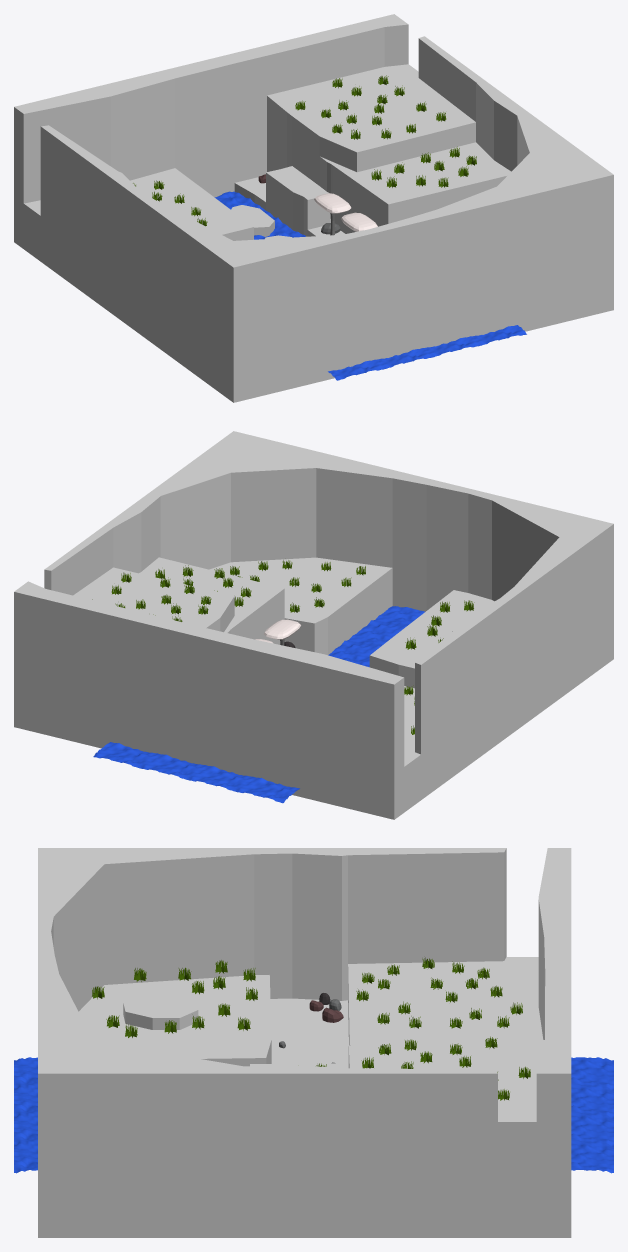
The model's file is stage_1_2_filled.glb.
3 renders of one model, top to bottom at view 1: azimuth 30°, elevation 25°; view 2: azimuth 150°, elevation 25°; view 3: azimuth 270°, elevation 25°, orthographic. The views are drawn at different scales.
Visible parts, largest first — view 1: scene, ground, water, Mushroom1; view 2: scene, ground, water, Mushroom1.001; view 3: scene, ground, water.
Part boxes in pixels (x1,y1,x2,y2): scene: [14, 14, 613, 402]; ground: [24, 64, 511, 234]; water: [214, 191, 526, 380]; Mushroom1: [314, 193, 351, 235]; scene: [14, 431, 613, 819]; ground: [73, 557, 494, 766]; water: [93, 606, 424, 803]; Mushroom1.001: [264, 619, 300, 645]; scene: [38, 848, 571, 1237]; ground: [79, 957, 544, 1121]; water: [14, 1057, 613, 1173].
Bounding box in the file's own units: 80 × 27.2 × 90.
